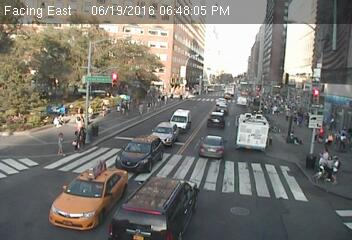neg: (311, 84, 324, 100), (286, 127, 298, 142), (289, 93, 294, 99)
pos: (47, 127, 70, 158), (328, 153, 347, 178), (315, 144, 334, 169), (336, 130, 351, 151), (68, 129, 80, 146), (325, 154, 336, 169), (326, 133, 336, 146), (144, 100, 154, 112), (55, 113, 64, 125), (269, 102, 278, 113), (119, 102, 127, 113)
